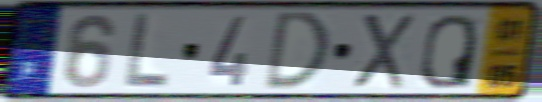4: (207, 14, 251, 88)
6: (61, 12, 117, 90)
D: (261, 9, 333, 93)
L: (120, 11, 172, 92)
Q: (417, 12, 479, 91)
X: (350, 11, 417, 92)
